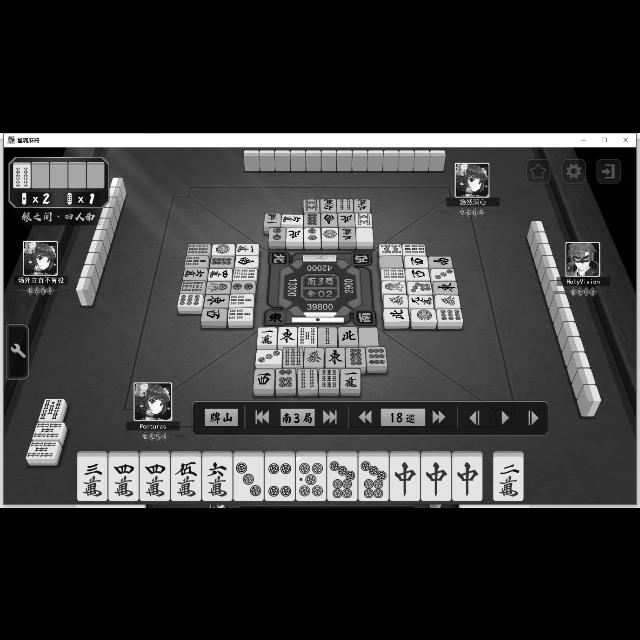1m: (341, 367, 362, 389), (258, 327, 276, 345), (236, 242, 258, 254), (265, 212, 281, 226)
1p: (411, 308, 435, 320), (212, 242, 234, 255), (322, 227, 338, 241)
1s: (382, 280, 406, 294), (206, 281, 230, 293)
2m: (494, 456, 524, 500)
2p: (231, 280, 255, 292), (305, 227, 321, 241), (270, 227, 284, 241)
2s: (318, 326, 336, 346)
3m: (77, 455, 107, 501), (339, 226, 356, 242), (355, 197, 371, 211)
3p: (233, 456, 264, 500), (255, 348, 282, 364), (431, 269, 455, 281)
4m: (108, 456, 138, 500), (140, 456, 170, 500), (208, 268, 232, 280)
4p: (265, 456, 295, 500)
4s: (13, 164, 31, 186), (299, 368, 317, 388), (338, 197, 354, 211)
5m: (171, 457, 201, 501)
5p: (296, 457, 328, 501)
5s: (38, 398, 66, 422), (32, 422, 64, 440), (26, 440, 58, 458), (298, 326, 316, 344)
6m: (202, 456, 232, 500), (182, 266, 206, 280), (320, 198, 336, 212), (282, 213, 302, 224)
6p: (276, 368, 296, 388)
6s: (284, 346, 302, 366), (180, 280, 204, 292), (187, 243, 210, 254)
7p: (328, 457, 358, 501), (359, 456, 388, 500), (407, 280, 433, 294)
7s: (228, 306, 252, 320), (228, 294, 254, 306), (184, 255, 208, 267)
8p: (347, 346, 365, 366), (304, 212, 320, 226), (210, 256, 232, 266)
8s: (378, 243, 402, 255), (304, 198, 320, 212), (356, 212, 372, 226)
9m: (410, 294, 434, 308)
9p: (177, 293, 203, 307), (367, 346, 387, 364), (437, 308, 463, 320)
9s: (320, 369, 338, 388), (380, 266, 404, 280), (233, 268, 257, 280), (402, 243, 424, 255)
chun: (453, 456, 483, 499), (392, 456, 421, 499), (422, 457, 450, 501)
haku: (360, 327, 378, 345), (381, 255, 404, 268), (356, 227, 374, 241)
hatsu: (305, 347, 323, 367), (384, 293, 408, 307), (436, 294, 460, 306)
nan: (428, 256, 454, 268), (235, 254, 259, 266), (322, 212, 338, 226)
pe: (339, 326, 357, 344), (385, 308, 409, 320), (288, 227, 302, 241), (340, 212, 354, 226)
sha: (253, 368, 273, 388), (202, 308, 226, 320), (406, 268, 430, 280), (405, 256, 429, 266)
tou: (434, 280, 458, 294), (278, 326, 296, 344), (326, 347, 344, 365), (204, 294, 228, 306)
